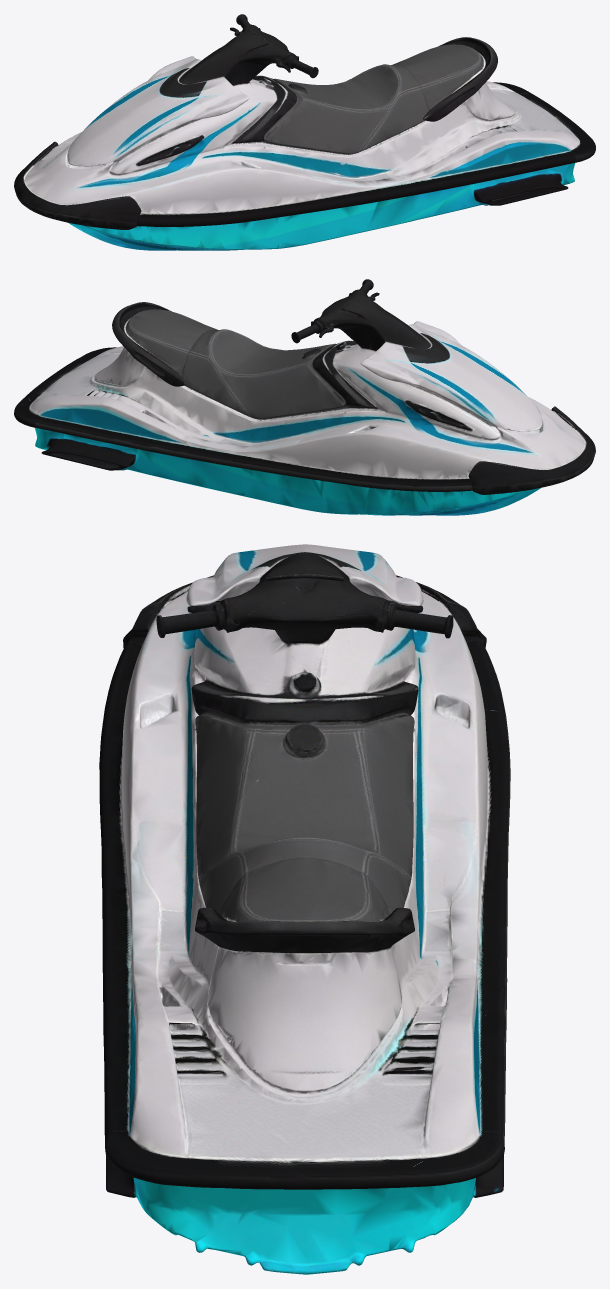
The model's file is jetski.glb.
3 renders of one model, top to bottom at view 1: azimuth 30°, elevation 25°; view 2: azimuth 150°, elevation 25°; view 3: azimuth 270°, elevation 25°, orthographic. The views are drawn at different scales.
Parts seen in each view (by area): view 1: mesh_node; view 2: mesh_node; view 3: mesh_node.
Boxes of the visible parts, left/top/right/bottom form: mesh_node: left=14, top=14, right=595, bottom=250; mesh_node: left=14, top=279, right=595, bottom=515; mesh_node: left=99, top=544, right=510, bottom=1274.
Bounding box in the file's own units: 1.9 × 0.7066 × 0.6284.
1 material, 1 textured.
